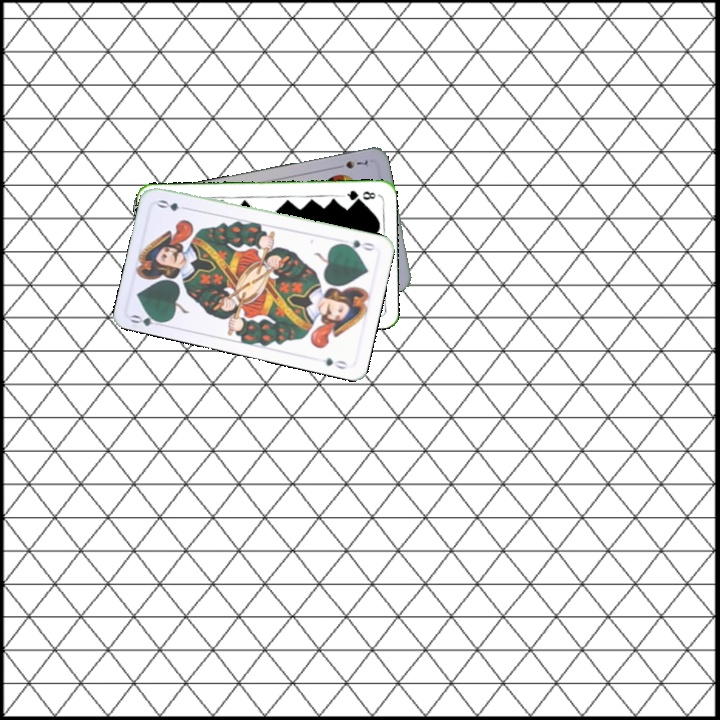G8: (340, 186, 378, 203)
GO: (127, 308, 168, 329), (338, 236, 377, 253)
S7: (332, 155, 373, 171)
